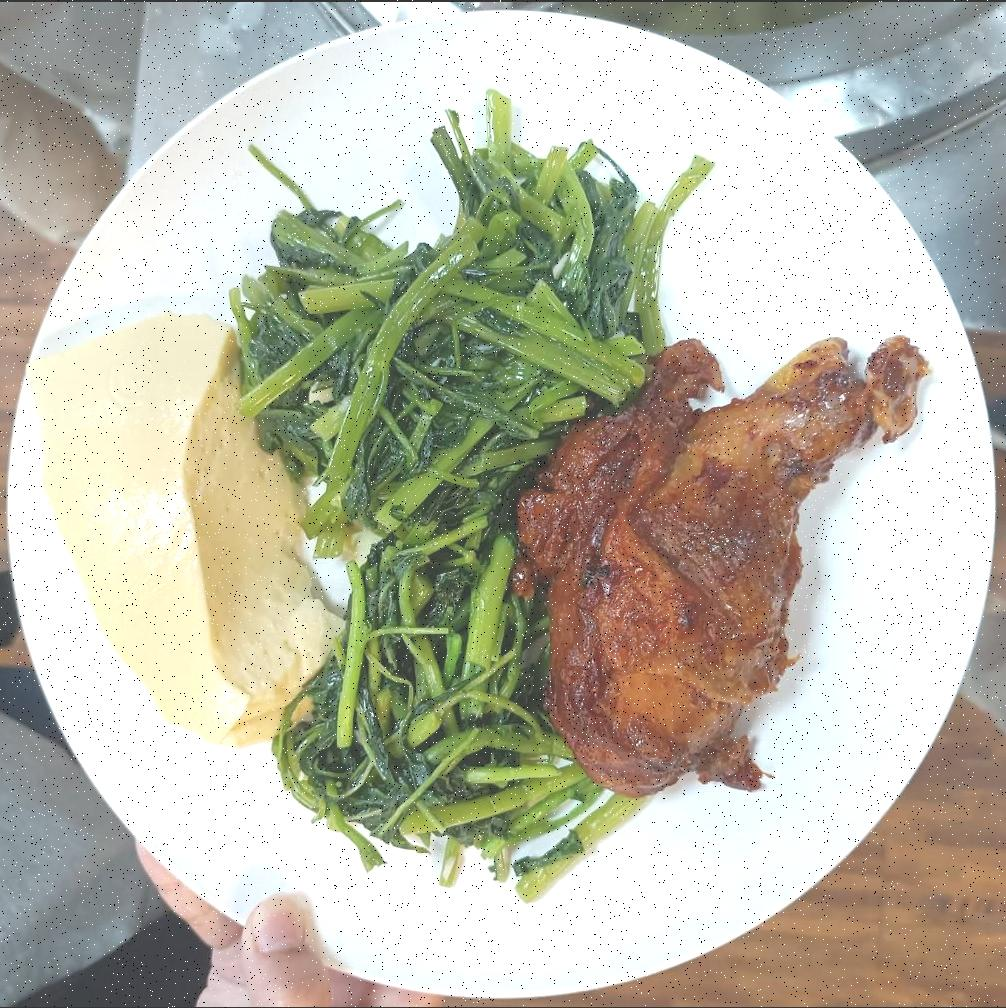big fried chicken leg: (7, 1, 994, 997)
braised fish fillet: (222, 114, 672, 537), (25, 304, 340, 759), (260, 549, 588, 879)
braised pork: (516, 334, 930, 801)
